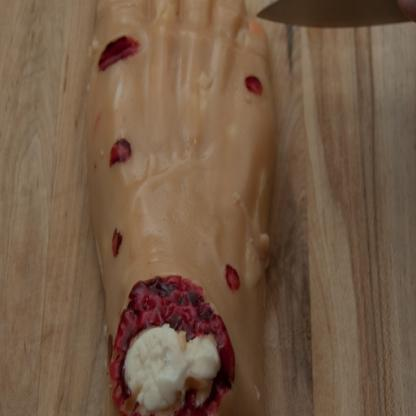knife: (256, 0, 415, 23)
